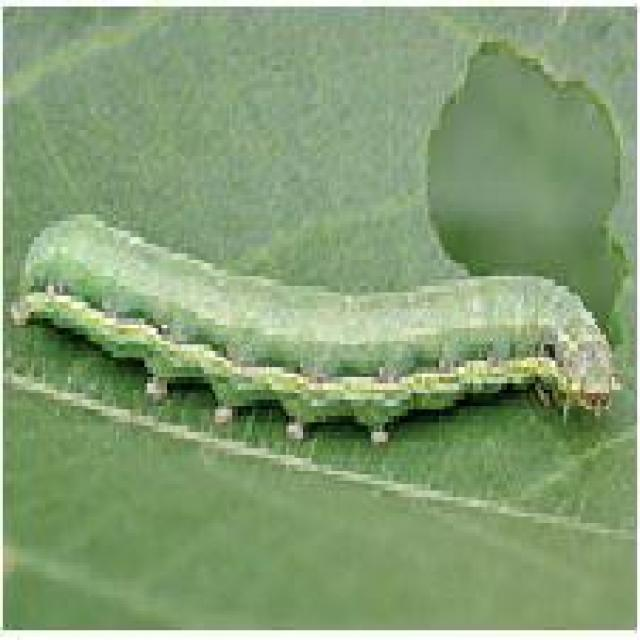BeetArmyWorm-Larva-: (17, 209, 628, 462)
